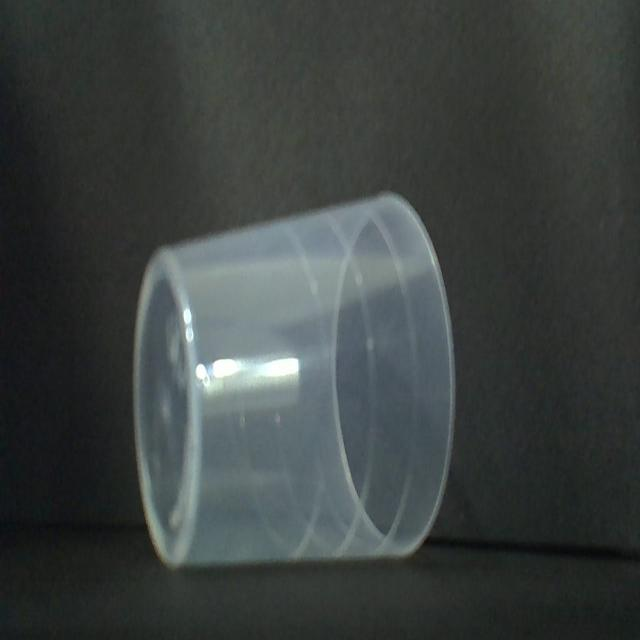cup: (125, 182, 462, 579)
